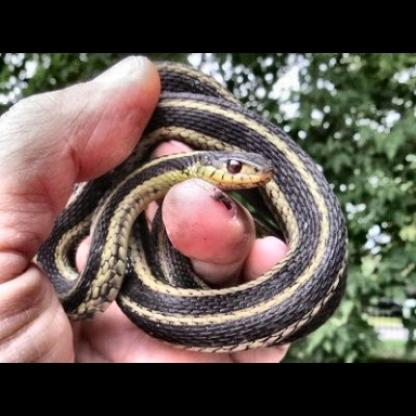Snake: (35, 60, 348, 353), (163, 142, 276, 206)
